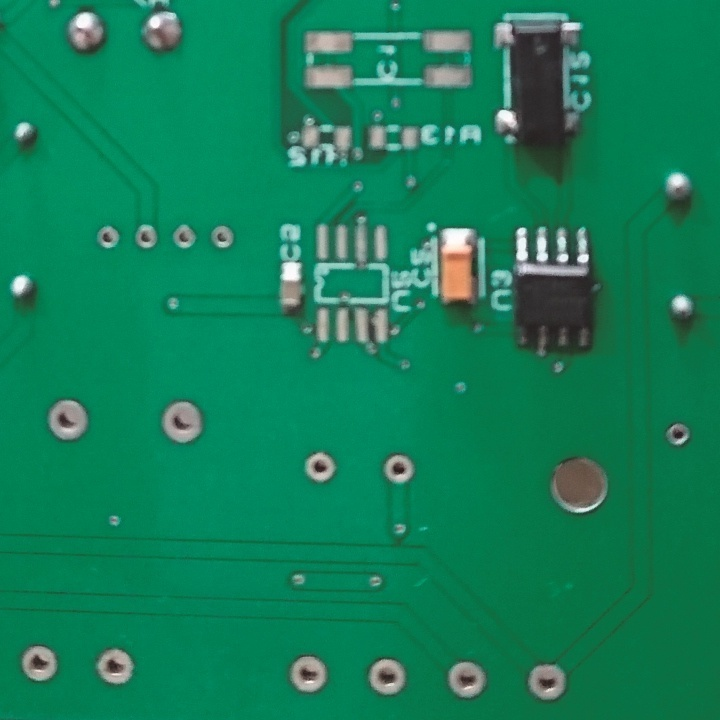F: (42, 398, 92, 445), (364, 654, 410, 701), (159, 397, 204, 444), (525, 660, 570, 704), (287, 653, 331, 698), (93, 646, 137, 691), (445, 657, 487, 702), (19, 645, 65, 686), (301, 449, 337, 485), (380, 451, 413, 485), (209, 221, 235, 254), (168, 220, 196, 249), (94, 221, 121, 251), (664, 420, 691, 449), (130, 223, 155, 249)
